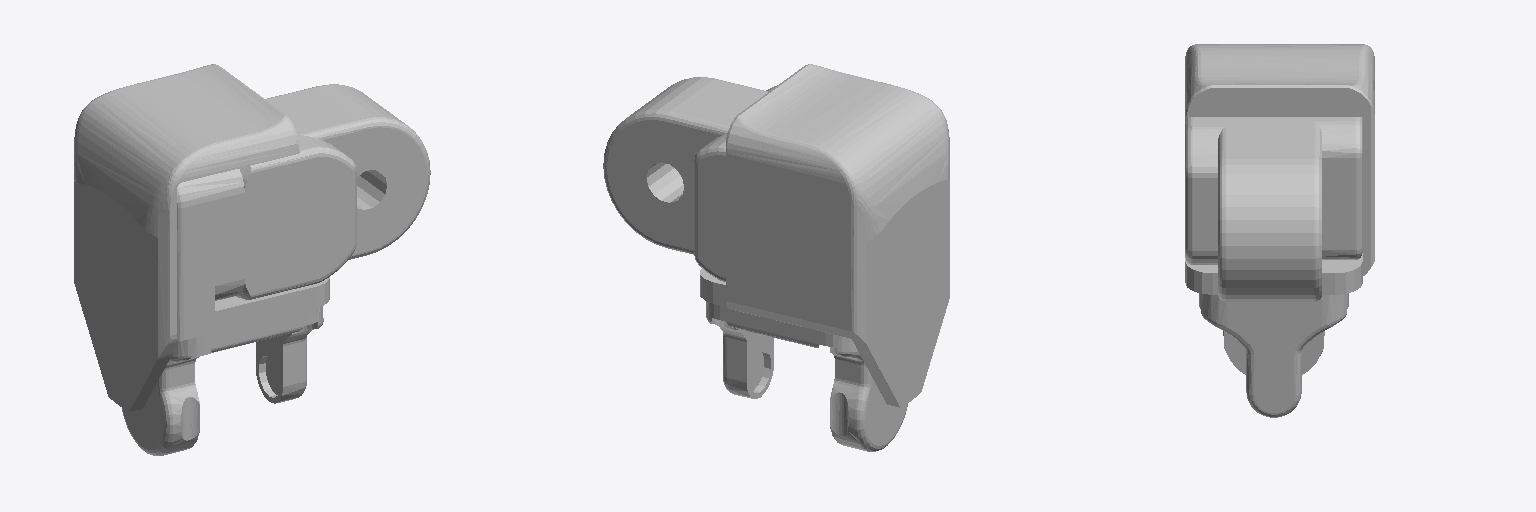
The model's file is tesollo_left_ll_dg_4_1_visuals_ll_dg_4_1_mesh_World_mesh.obj.
The picture shows the model from 3 angles: view 1: azimuth 30°, elevation 25°; view 2: azimuth 150°, elevation 25°; view 3: azimuth 270°, elevation 25°; orthographic projection.
Bounding box in the file's own units: 0.0427 × 0.0467 × 0.0239.